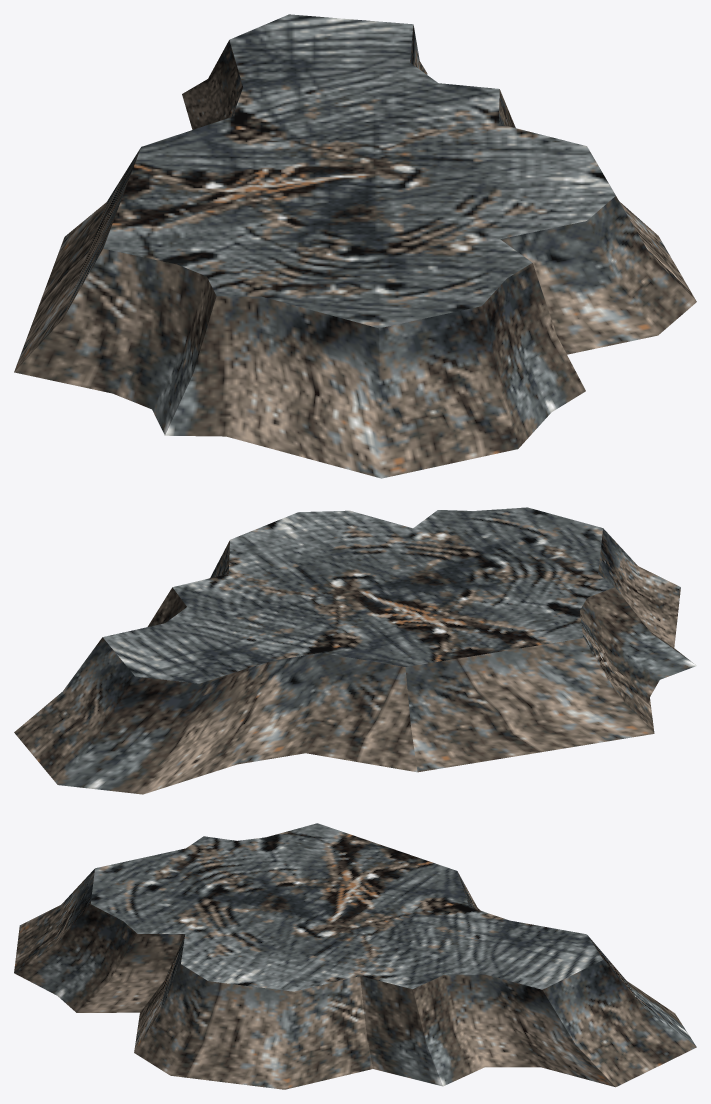
Rendered from fp_stump_4.glb.
The picture shows the model from 3 angles, top to bottom: view 1: azimuth 30°, elevation 25°; view 2: azimuth 150°, elevation 25°; view 3: azimuth 270°, elevation 25°; orthographic projection. The views are drawn at different scales.
Parts seen in each view (by area): view 1: _MeshInstance3D_49; view 2: _MeshInstance3D_49; view 3: _MeshInstance3D_49.
Boxes of the visible parts, x1,y1,x2,y2 form: _MeshInstance3D_49: (14, 14, 696, 478); _MeshInstance3D_49: (14, 507, 696, 794); _MeshInstance3D_49: (14, 823, 696, 1089).
Size of the model in its own units: 0.5493 by 0.0851 by 0.7061.
Materials: 1 (1 with a texture image).
